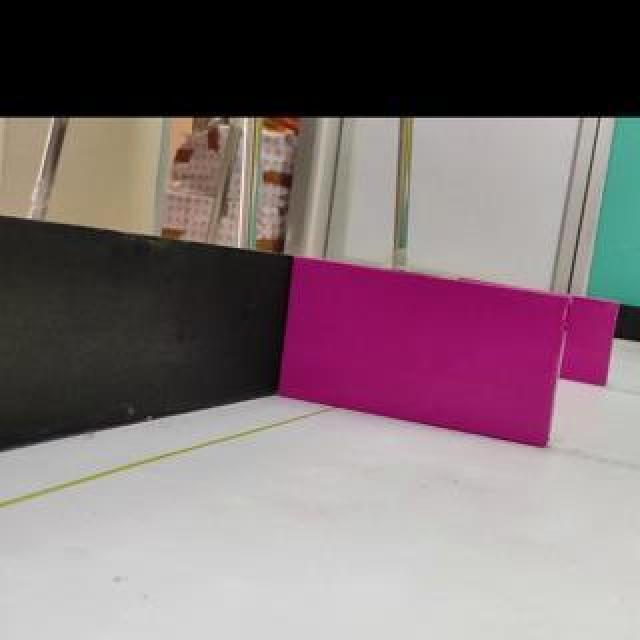xparking: (278, 255, 572, 448), (562, 300, 620, 388)
